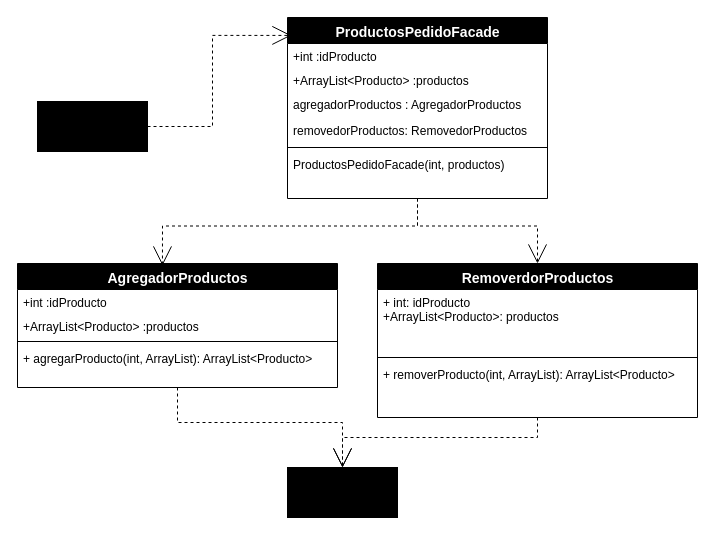
This 715x536 diagram has some shape labels left out. The centre of each missing label's shape, as x and y in pixels:
"Pedido" goes at point (92, 126).
"Productos" goes at point (342, 492).
